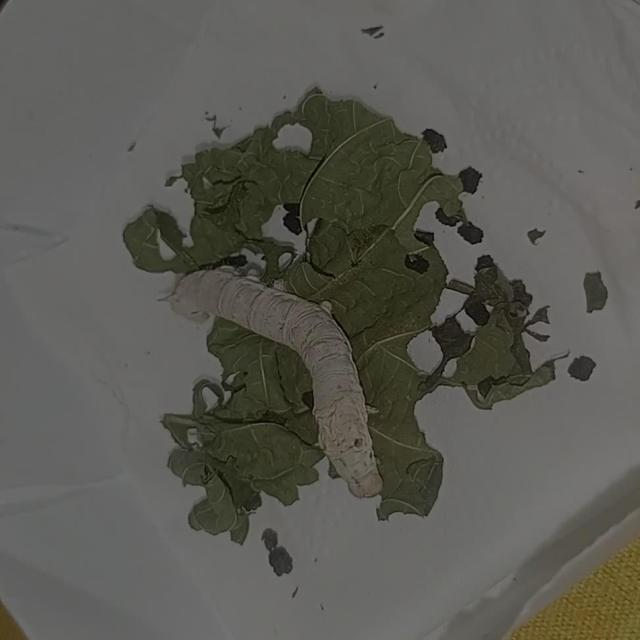Healthy: (163, 255, 403, 506)
